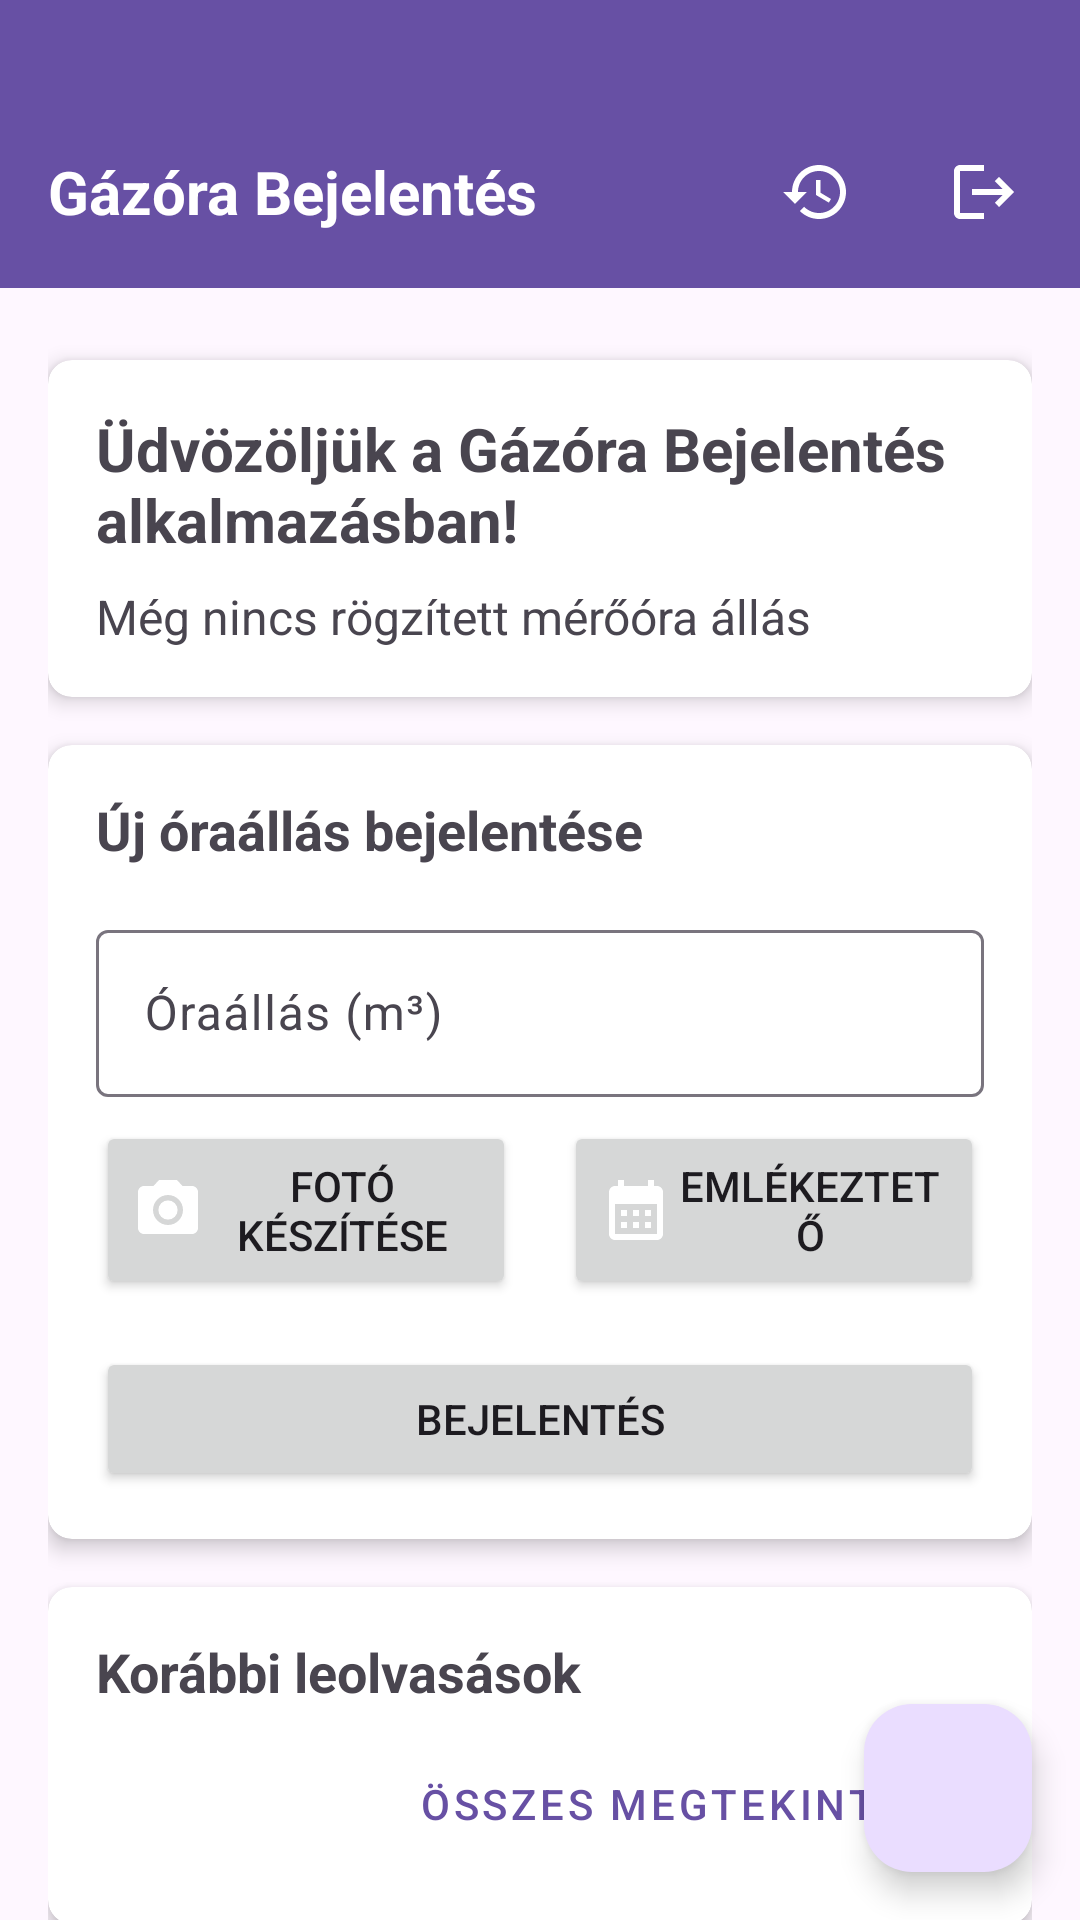

Locate icon controls on the screen. Image size 1080px x 1920px, boxes as (x1, y1, x2, y2).
Leolvasási előzmények: (783, 165, 846, 219)
